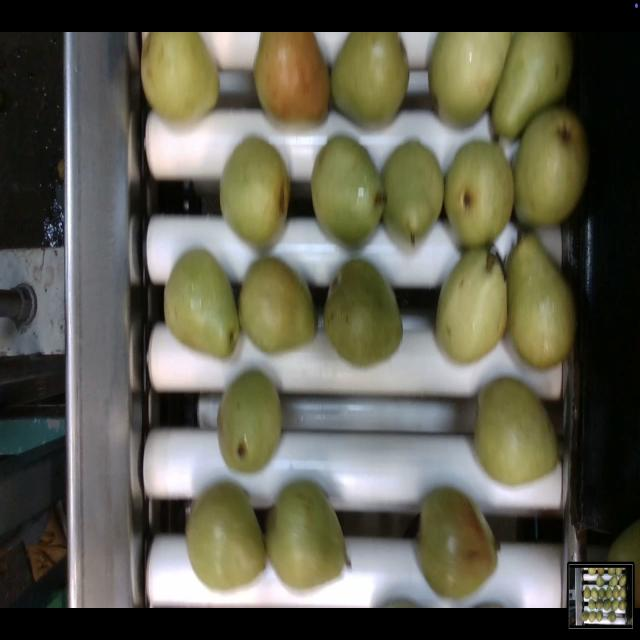pears: (473, 379, 560, 490), (508, 233, 577, 372), (416, 487, 499, 601), (185, 484, 270, 594), (266, 482, 350, 593), (515, 106, 590, 230), (323, 259, 404, 370), (310, 137, 386, 254), (435, 247, 509, 367), (492, 34, 574, 140), (164, 250, 240, 362), (220, 137, 292, 254), (428, 34, 512, 129), (380, 140, 446, 259), (139, 32, 221, 127), (329, 32, 410, 128), (253, 32, 332, 129), (240, 255, 318, 352), (445, 139, 514, 244), (217, 372, 283, 476)
